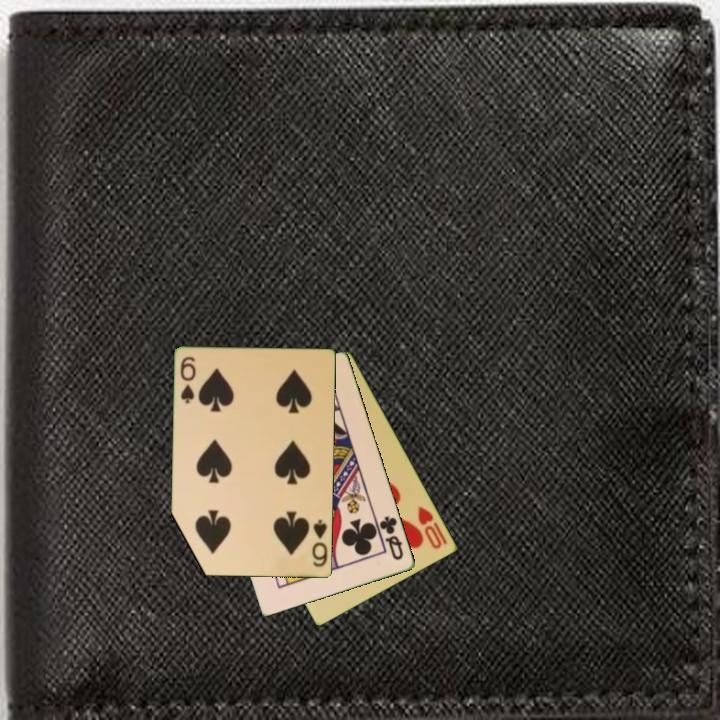10h: (415, 502, 451, 552)
6s: (177, 353, 199, 407), (309, 516, 330, 570)
Qc: (376, 512, 407, 563)
